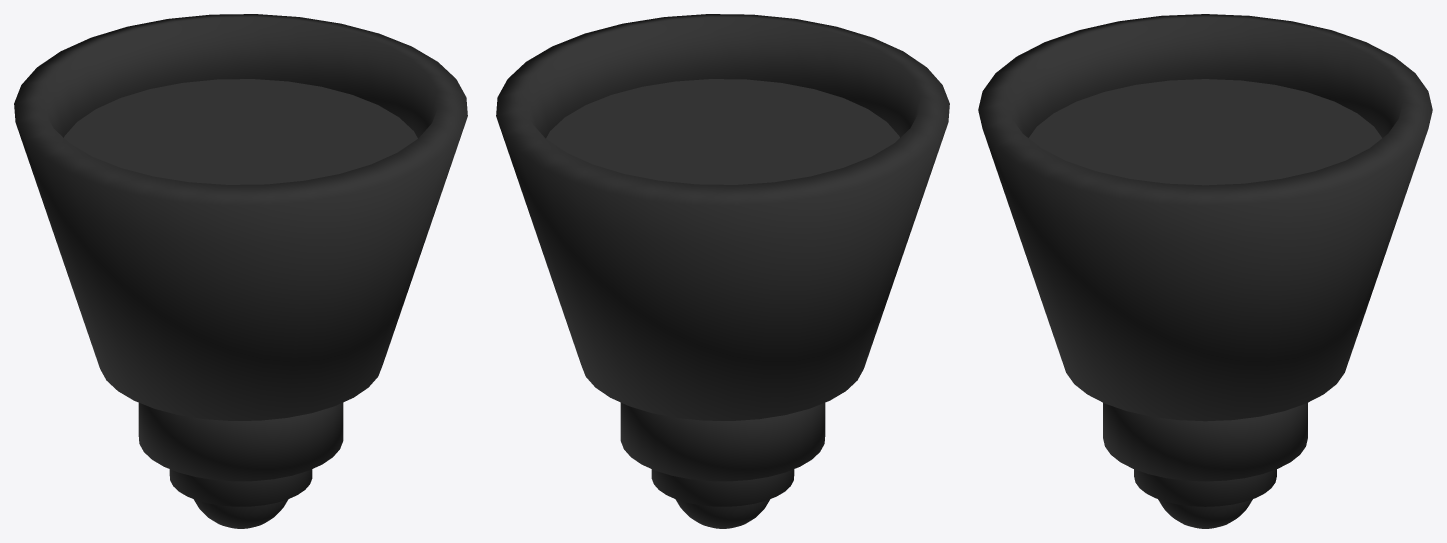
File: light.fbx
The picture shows the model from 3 angles, left to right: view 1: azimuth 30°, elevation 25°; view 2: azimuth 150°, elevation 25°; view 3: azimuth 270°, elevation 25°; orthographic projection.
Visible parts, largest first — view 1: Circle, Circle001, Circle002, ball; view 2: Circle, Circle001, Circle002, ball; view 3: Circle, Circle001, Circle002, ball.
Part boxes in pixels (x1,y1,x2,y2): Circle: (14, 14, 467, 420); Circle001: (138, 402, 343, 481); Circle002: (169, 469, 312, 506); ball: (194, 499, 288, 528); Circle: (496, 14, 949, 420); Circle001: (620, 402, 825, 481); Circle002: (651, 469, 794, 506); ball: (675, 499, 769, 528); Circle: (978, 14, 1432, 421); Circle001: (1103, 403, 1307, 481); Circle002: (1134, 469, 1276, 506); ball: (1158, 499, 1252, 528).
Bounding box in the file's own units: 57.62 × 59.05 × 57.62.
